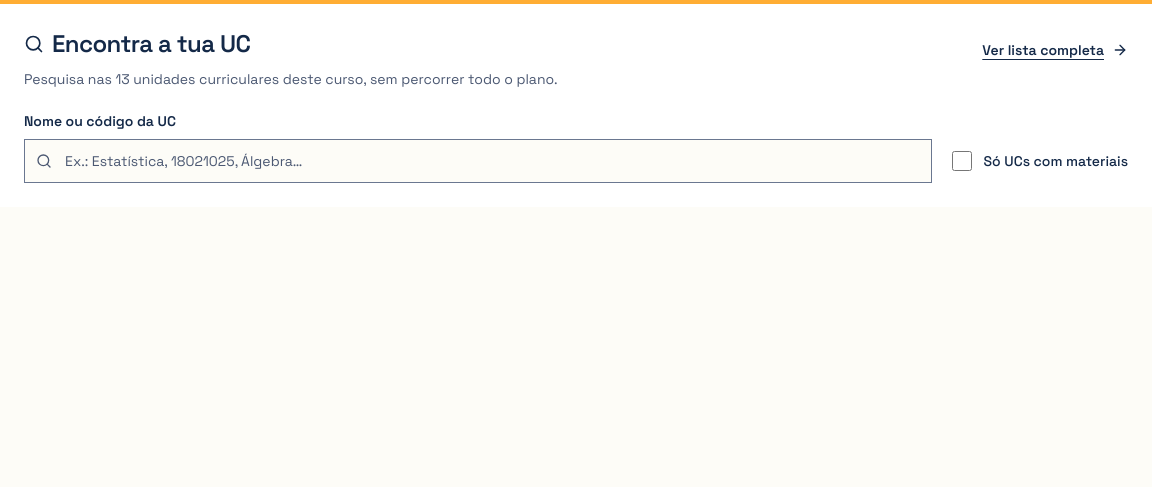
Test case: coverage loading and playlist-only UCs › includes playlist-only disciplines when filtering to units with study materials
Click the checkbox labelled "Só UCs com materiais".
click(962, 161)  # box [952,151,972,171]
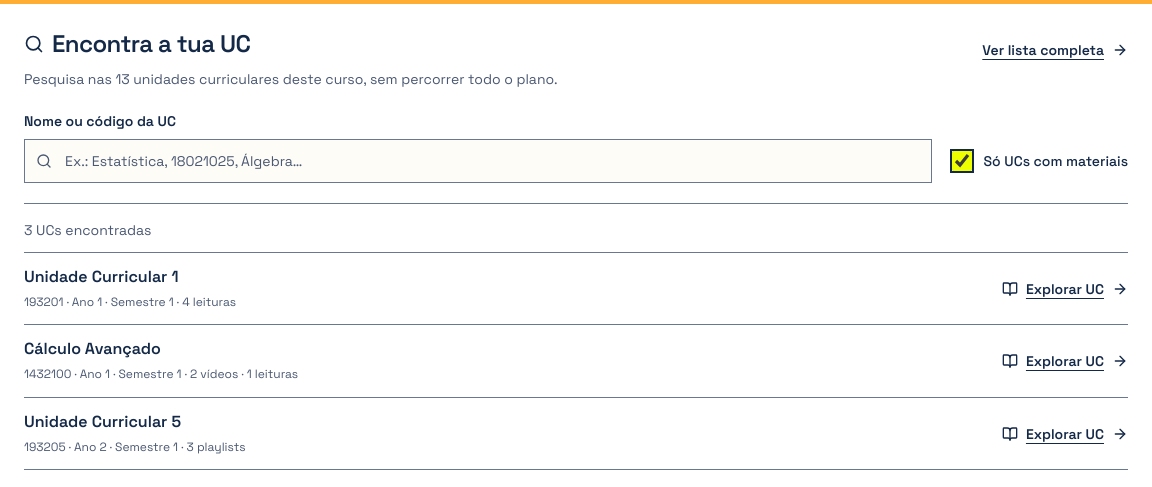
Expected: the message reads "3 UCs encontradas", [24,221,151,239]
Expected: the link "Unidade Curricular 5" is shown, [24,411,181,432]
Expected: the text "193205 · Ano 2 · Semestre 1 · 3 playlists" is shown, [24,438,246,457]
